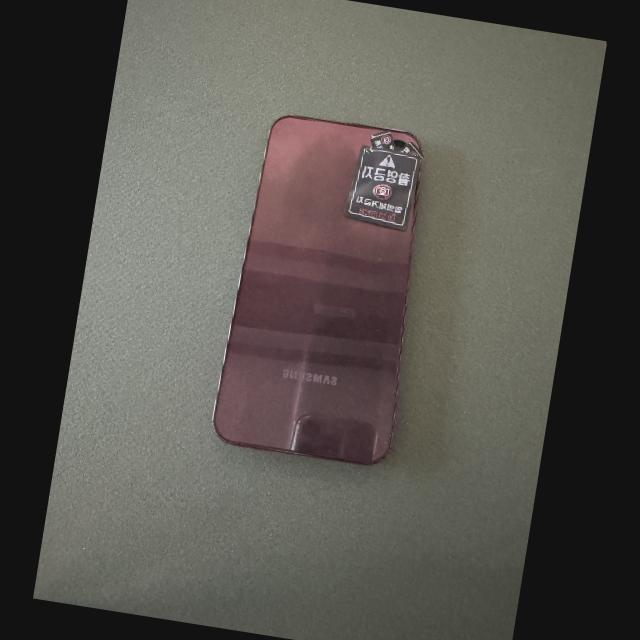lens: (394, 140, 405, 147)
phone: (213, 116, 423, 464)
sticker: (345, 146, 420, 232), (397, 140, 425, 163), (372, 130, 396, 152)
